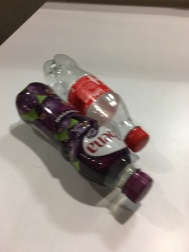bottle_red: (11, 77, 156, 210)
